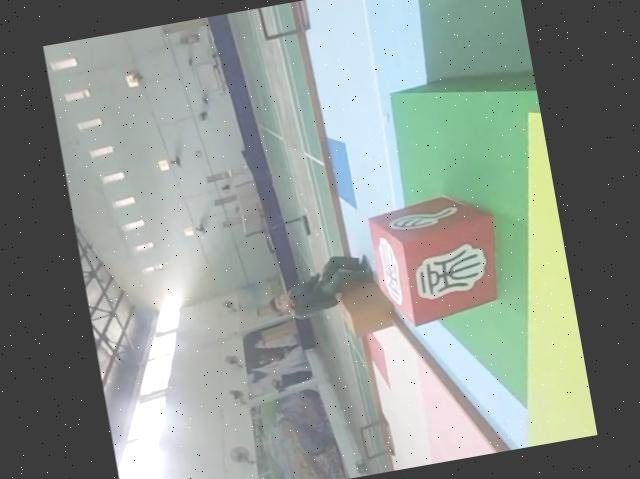R2 Fake: (364, 186, 512, 334)
